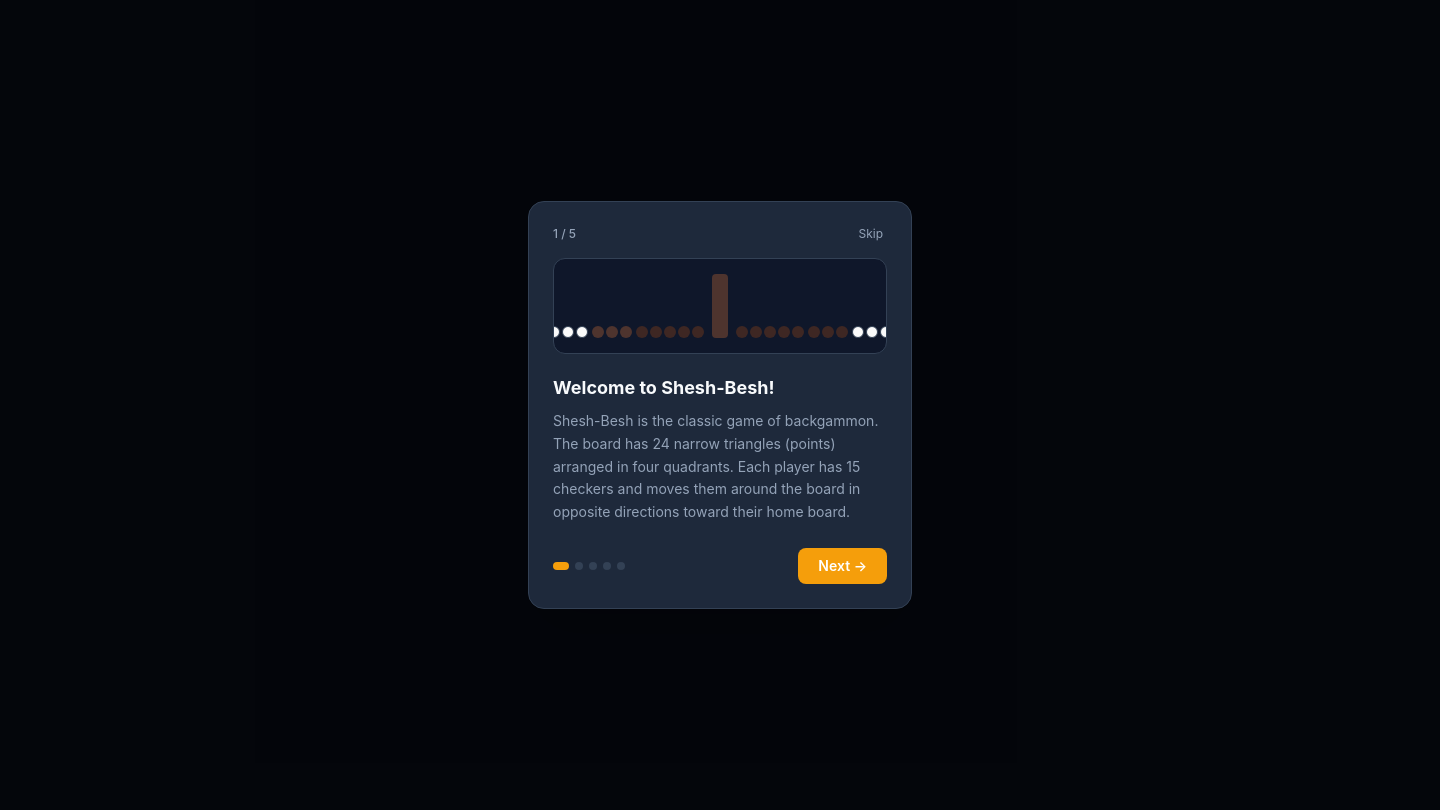
Test case: Tutorial › advances through all steps sequentially
The image size is (1440, 810).
Expected: the heading "Welcome to Shesh-Besh!" is shown, x1=553 y1=377 x2=775 y2=398
Click the button "Next →": (843, 566) x1=798 y1=548 x2=887 y2=584
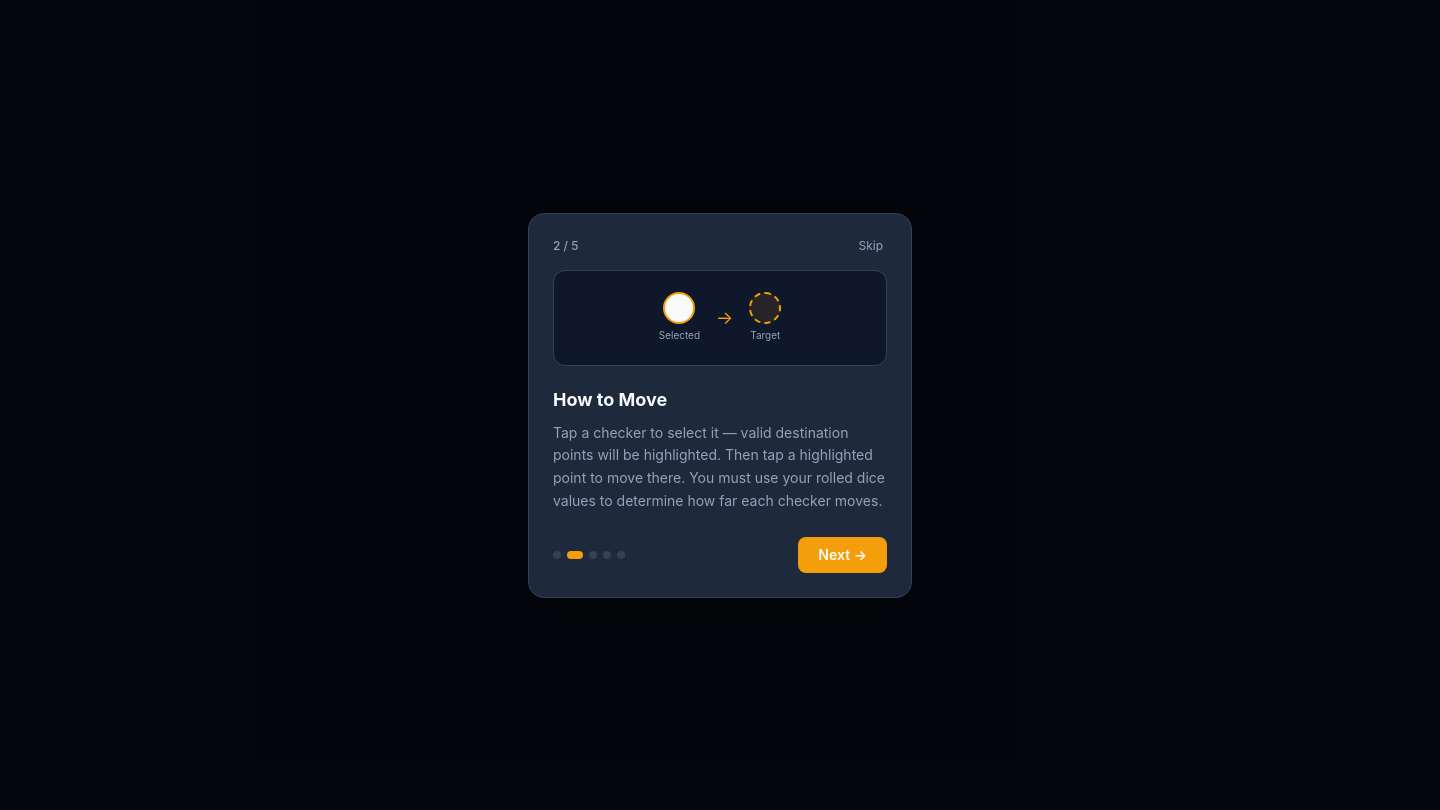
Now the heading "How to Move" is shown, box x1=553 y1=388 x2=667 y2=410
Click the button "Next →": (843, 554) x1=798 y1=536 x2=887 y2=572
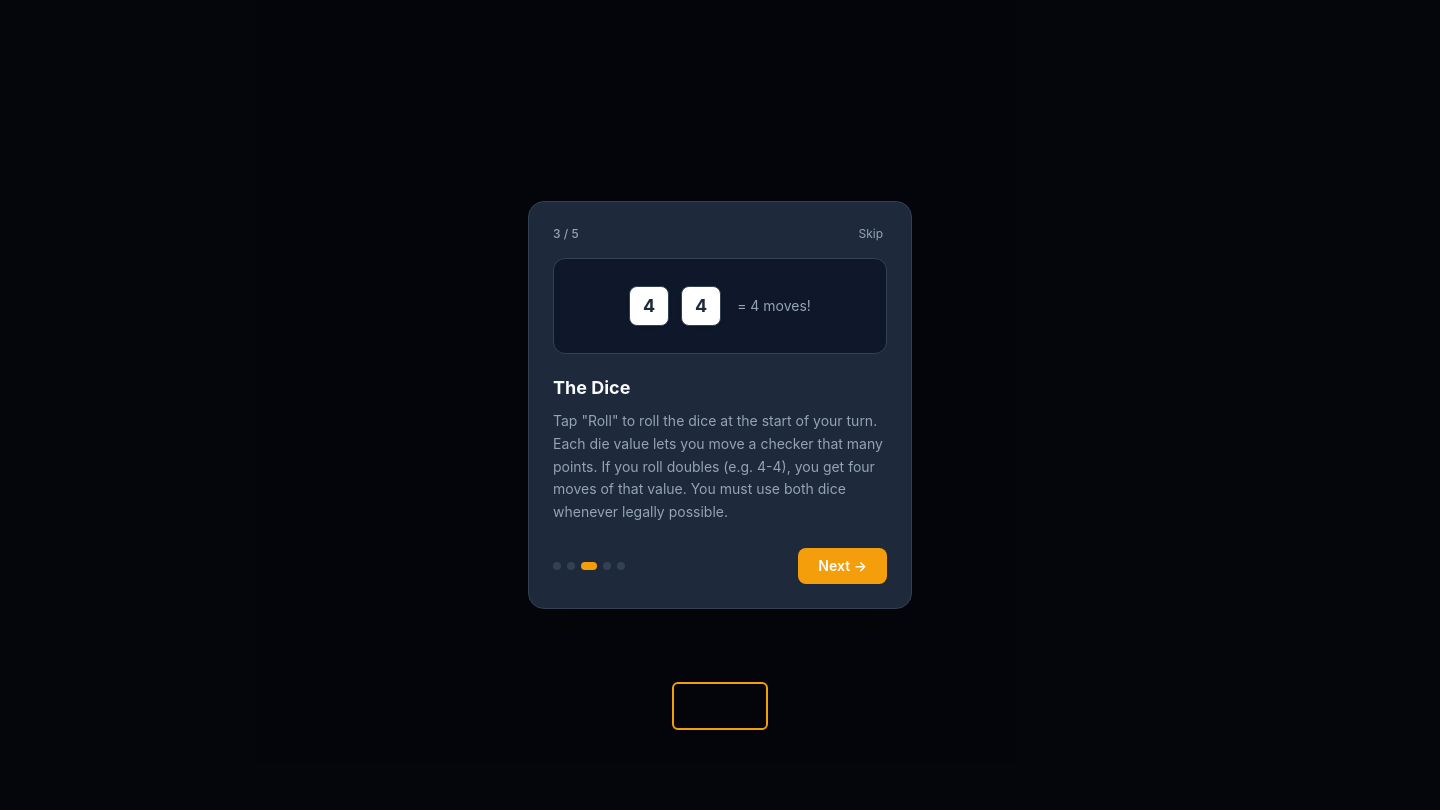
Now the heading "The Dice" is shown, box x1=553 y1=377 x2=630 y2=398
Click the button "Next →": (843, 566) x1=798 y1=548 x2=887 y2=584
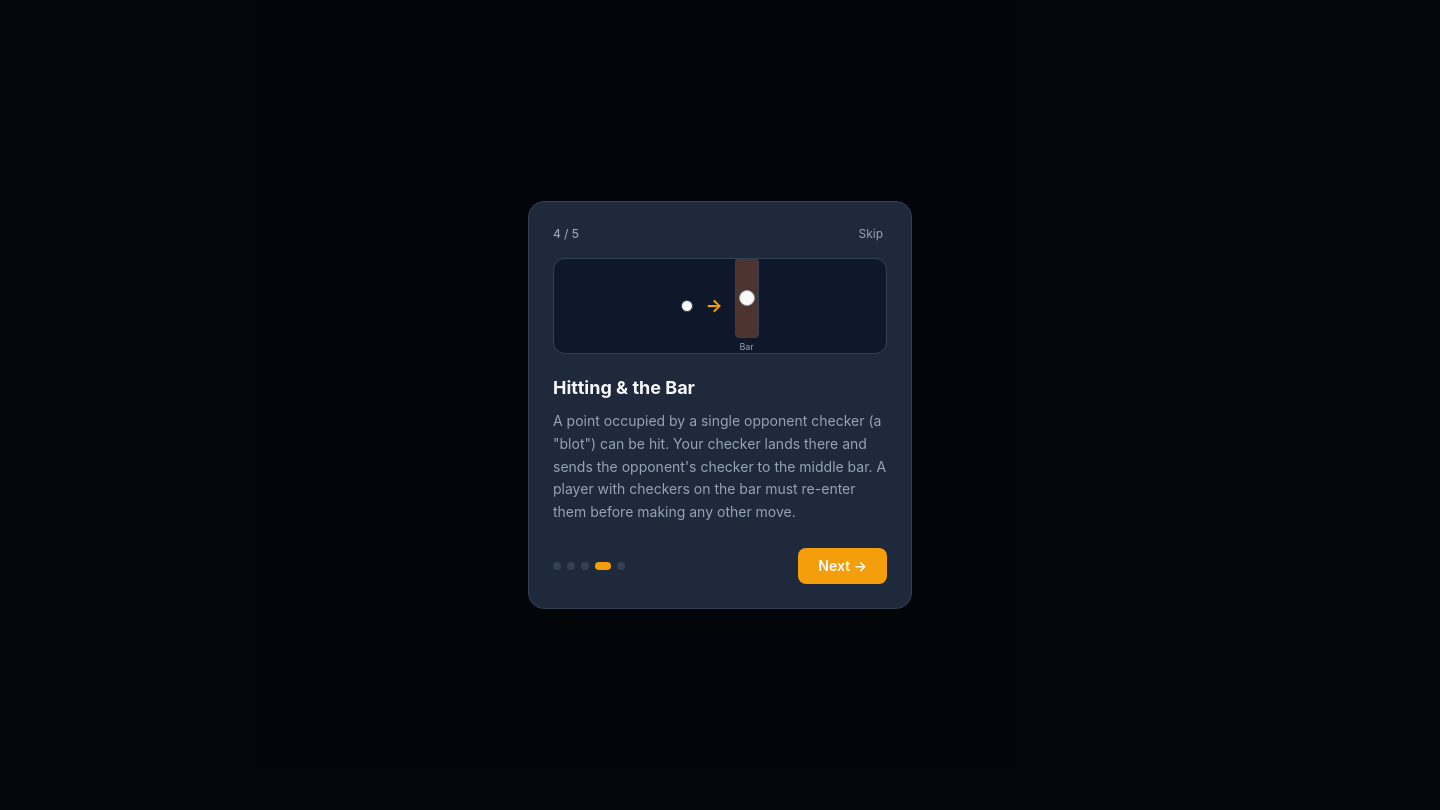
Now the heading "Hitting & the Bar" is shown, box x1=553 y1=377 x2=695 y2=398
Click the button "Next →": (843, 566) x1=798 y1=548 x2=887 y2=584
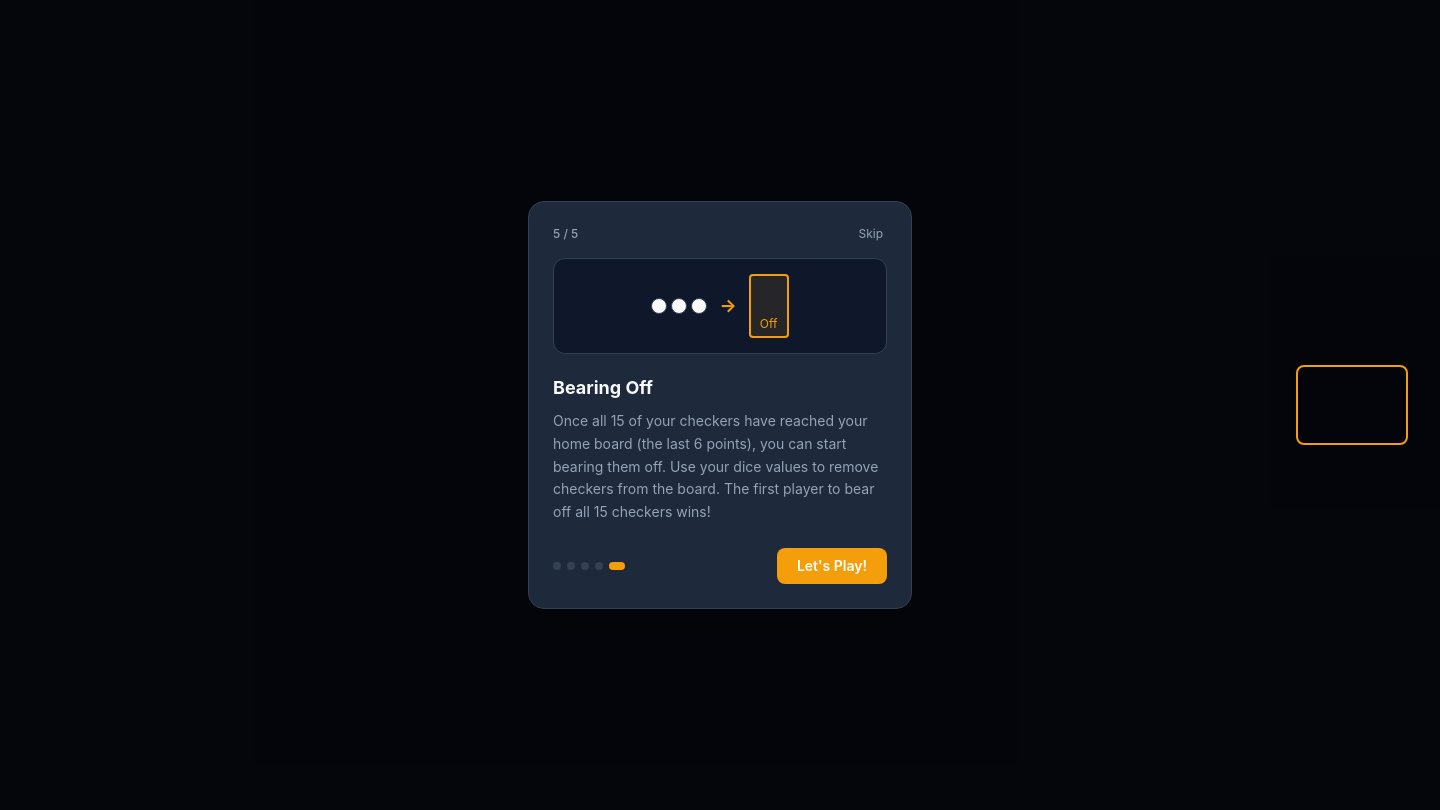
Now the heading "Bearing Off" is shown, box x1=553 y1=377 x2=653 y2=398
